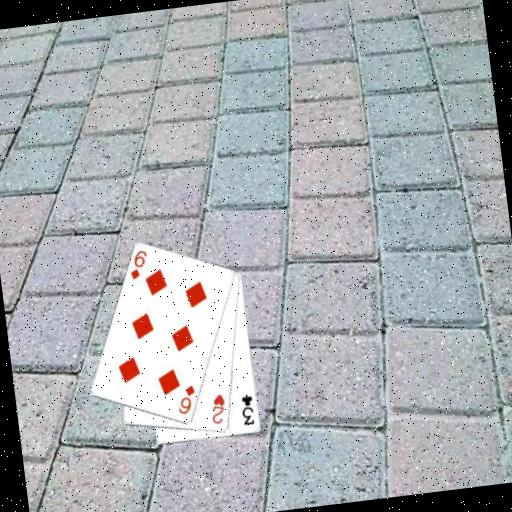2H: (207, 391, 230, 427)
3C: (237, 391, 258, 427)
6D: (173, 382, 200, 417), (125, 247, 152, 282)
